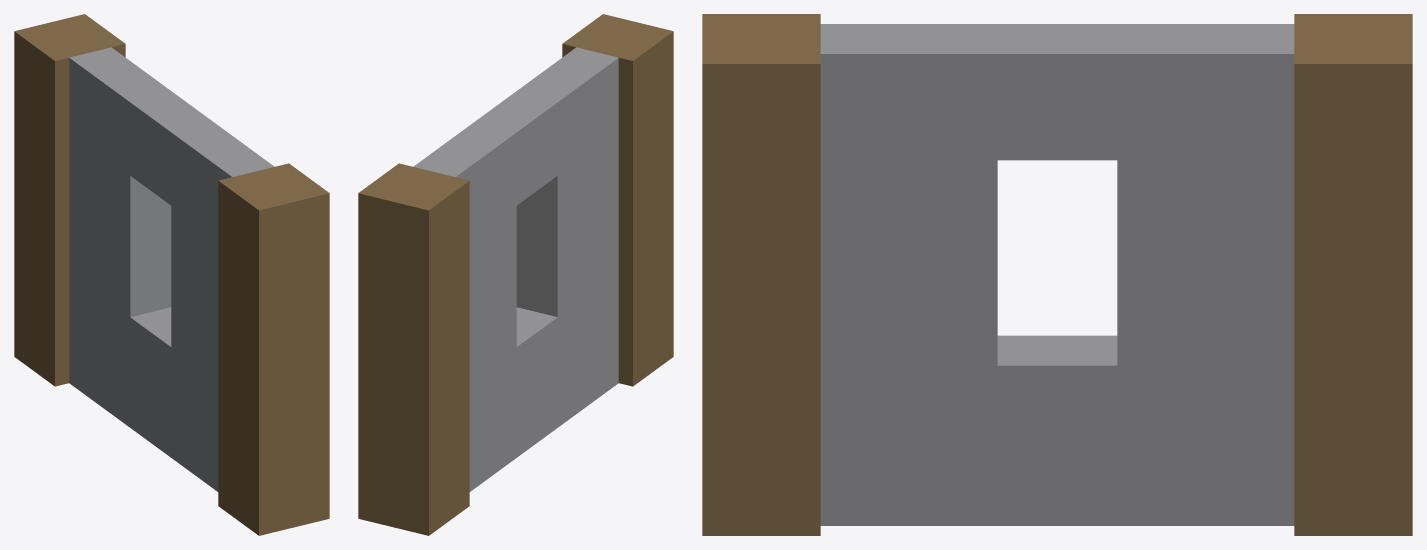
Rendered from Wood_Border_Wall_01.obj.
3 views of the same model, side by side, from view 1: azimuth 30°, elevation 25°; view 2: azimuth 150°, elevation 25°; view 3: azimuth 270°, elevation 25° (orthographic). The views are drawn at different scales.
Visible parts, largest first — view 1: Mesh1_Wood_Window_Square_Model.001; view 2: Mesh1_Wood_Window_Square_Model.001; view 3: Mesh1_Wood_Window_Square_Model.001.
Boxes of the visible parts, box(x1,y1,x2,y2) form: Mesh1_Wood_Window_Square_Model.001: box(14, 14, 329, 535); Mesh1_Wood_Window_Square_Model.001: box(358, 14, 673, 535); Mesh1_Wood_Window_Square_Model.001: box(702, 14, 1412, 535).
Bounding box in the file's own units: 0.5 × 2.2 × 3.
